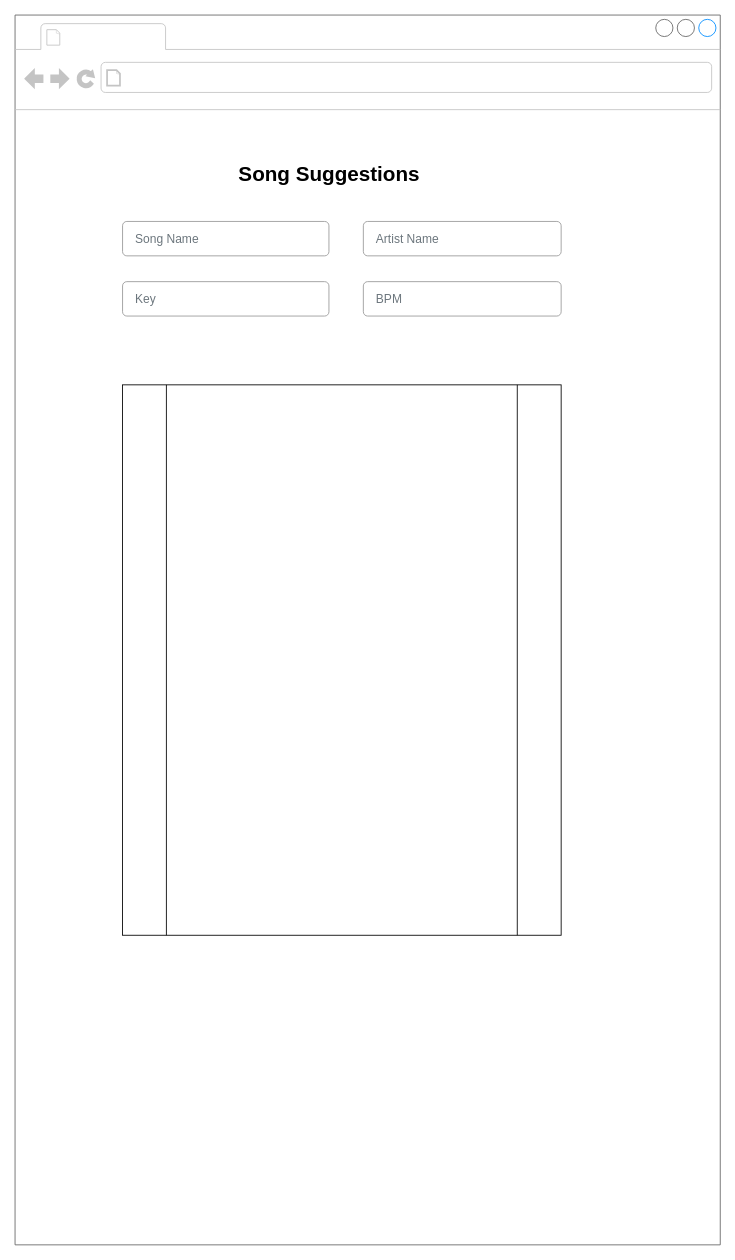
The diagram is 735 pixels wide and 1260 high, and some of its shapes have lost their labels. The centre of each missing label's shape, as x and y in pixels:
"https://www.draw.io" belongs at (x=234, y=77).
"Page 1" belongs at (x=113, y=36).
